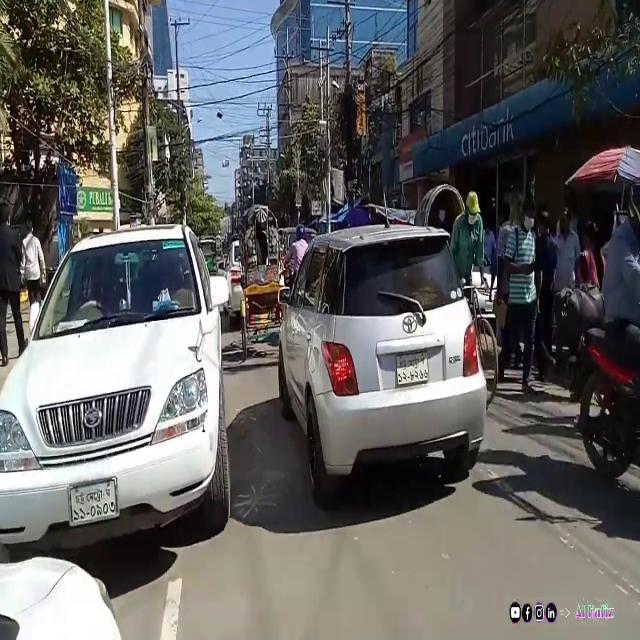silver: (280, 227, 498, 504)
white: (0, 214, 239, 550)
